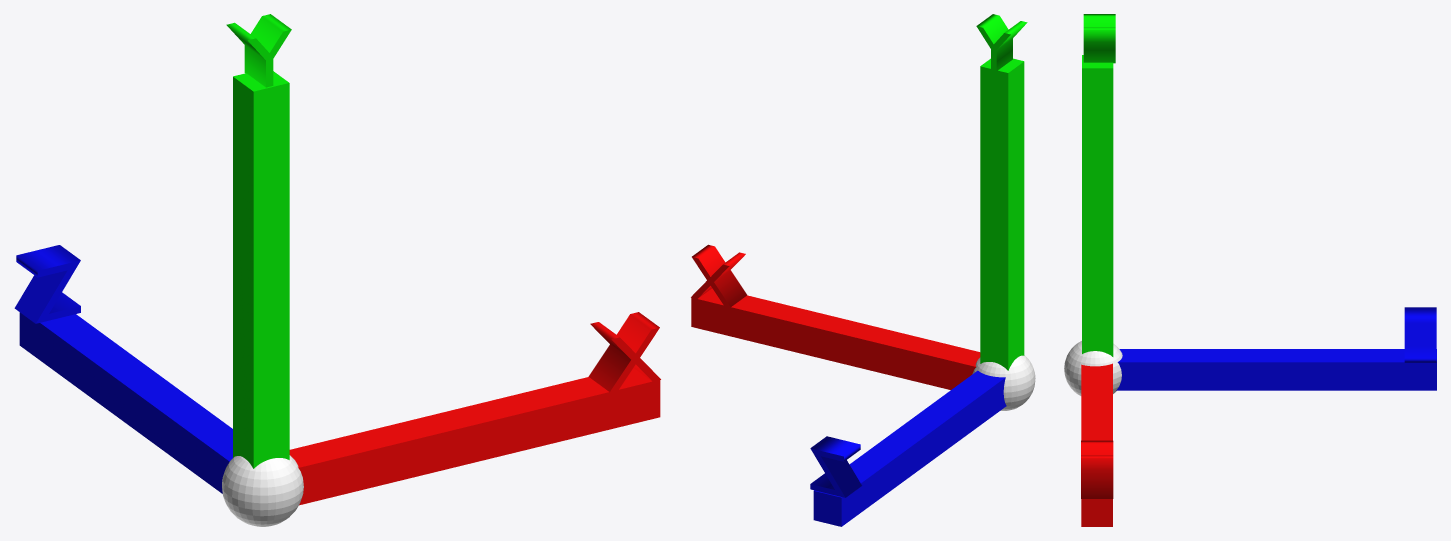
File: arrow_fbx.fbx
The picture shows the model from 3 angles, left to right: view 1: azimuth 30°, elevation 25°; view 2: azimuth 150°, elevation 25°; view 3: azimuth 270°, elevation 25°; orthographic projection. The views are drawn at different scales.
Visible parts, largest first — view 1: Arrows; view 2: Arrows; view 3: Arrows.
Boxes of the visible parts, x1,y1,x2,y2 form: Arrows: (14,14,660,526); Arrows: (691,14,1035,526); Arrows: (1064,14,1436,526).
Size of the model in its own units: 64.15 by 57.72 by 57.88.
